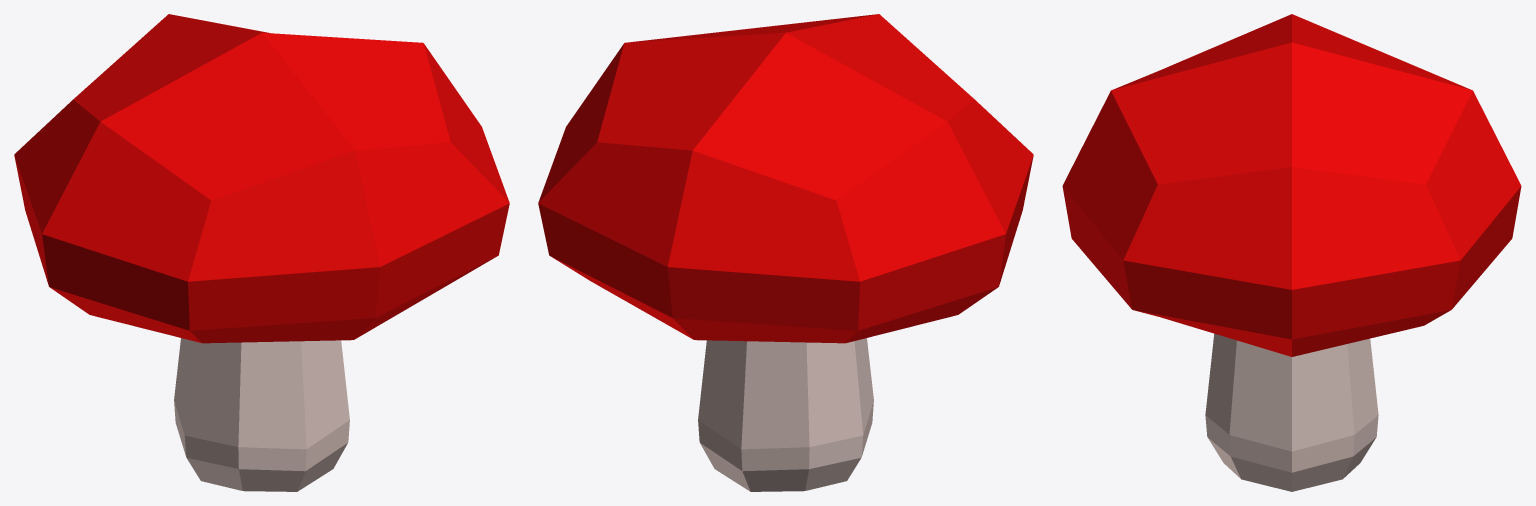
Rendered from MUSH_ROUNDED_RED.fbx.
3 views of the same model, side by side, from view 1: azimuth 30°, elevation 25°; view 2: azimuth 150°, elevation 25°; view 3: azimuth 270°, elevation 25° (orthographic). The views are drawn at different scales.
Parts seen in each view (by area): view 1: pCube15, pCube16; view 2: pCube15, pCube16; view 3: pCube15, pCube16.
Part boxes in pixels (bbox=[...]): pCube15: bbox=[14, 14, 509, 343]; pCube16: bbox=[174, 338, 349, 491]; pCube15: bbox=[538, 14, 1033, 343]; pCube16: bbox=[698, 338, 873, 491]; pCube15: bbox=[1062, 14, 1521, 356]; pCube16: bbox=[1205, 333, 1378, 491].
Size of the model in its own units: 14.03 by 13.44 by 13.06.
